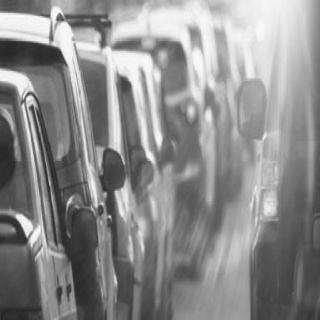other: (243, 0, 307, 89)
